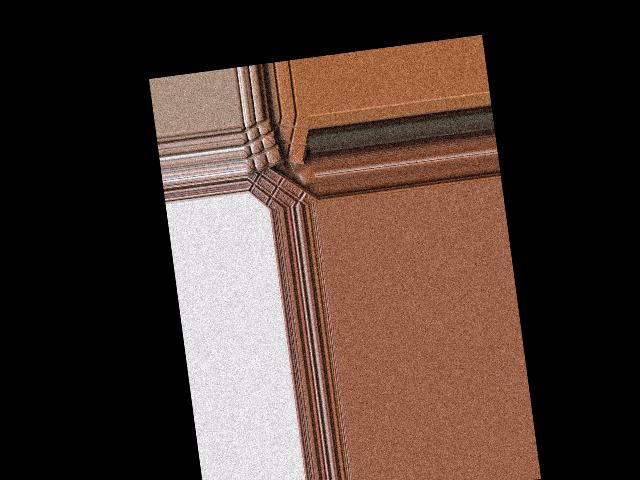chocolate: (264, 113, 309, 168)
